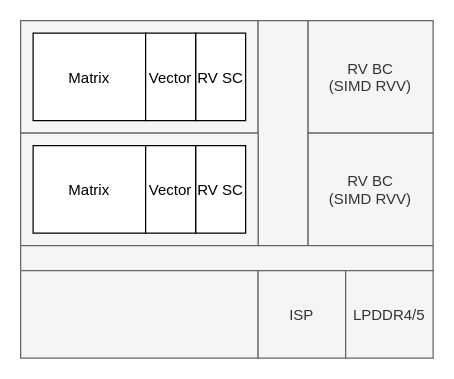
Image size: 454x379. Some labels were removed from this diagram. The shapes that lost their labels are listed below. From the top down, each one's centre as x and y in pixels, then its label:
At point 282,132: "L3".
At point 226,257: "NOC".
At point 138,313: "NN Cluster".
